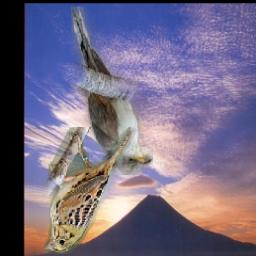Cuckoo: (70, 6, 152, 175)
Sparrow: (43, 128, 137, 255)
